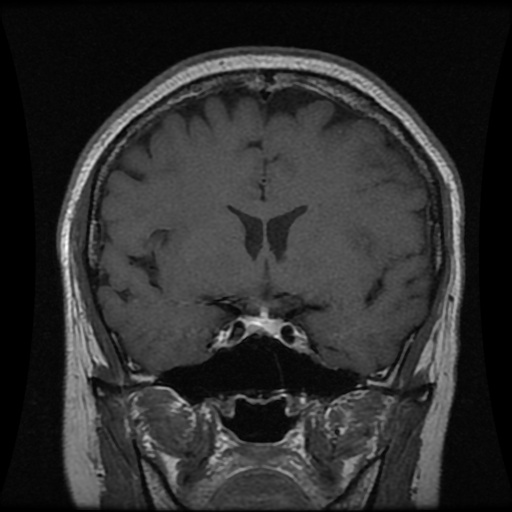pituitary: (243, 316, 281, 334)
